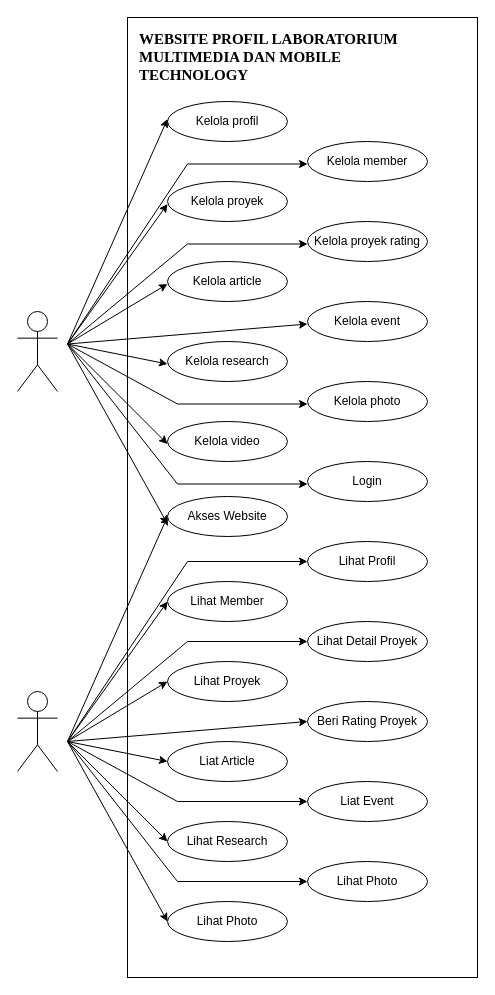
The diagram is 495 pixels wide and 995 high, and some of its shapes have lost their labels. The centre of each missing label's shape, as x and y in pixels:
"Admin" goes at (x=37, y=351).
"Viewer" goes at (x=37, y=731).
